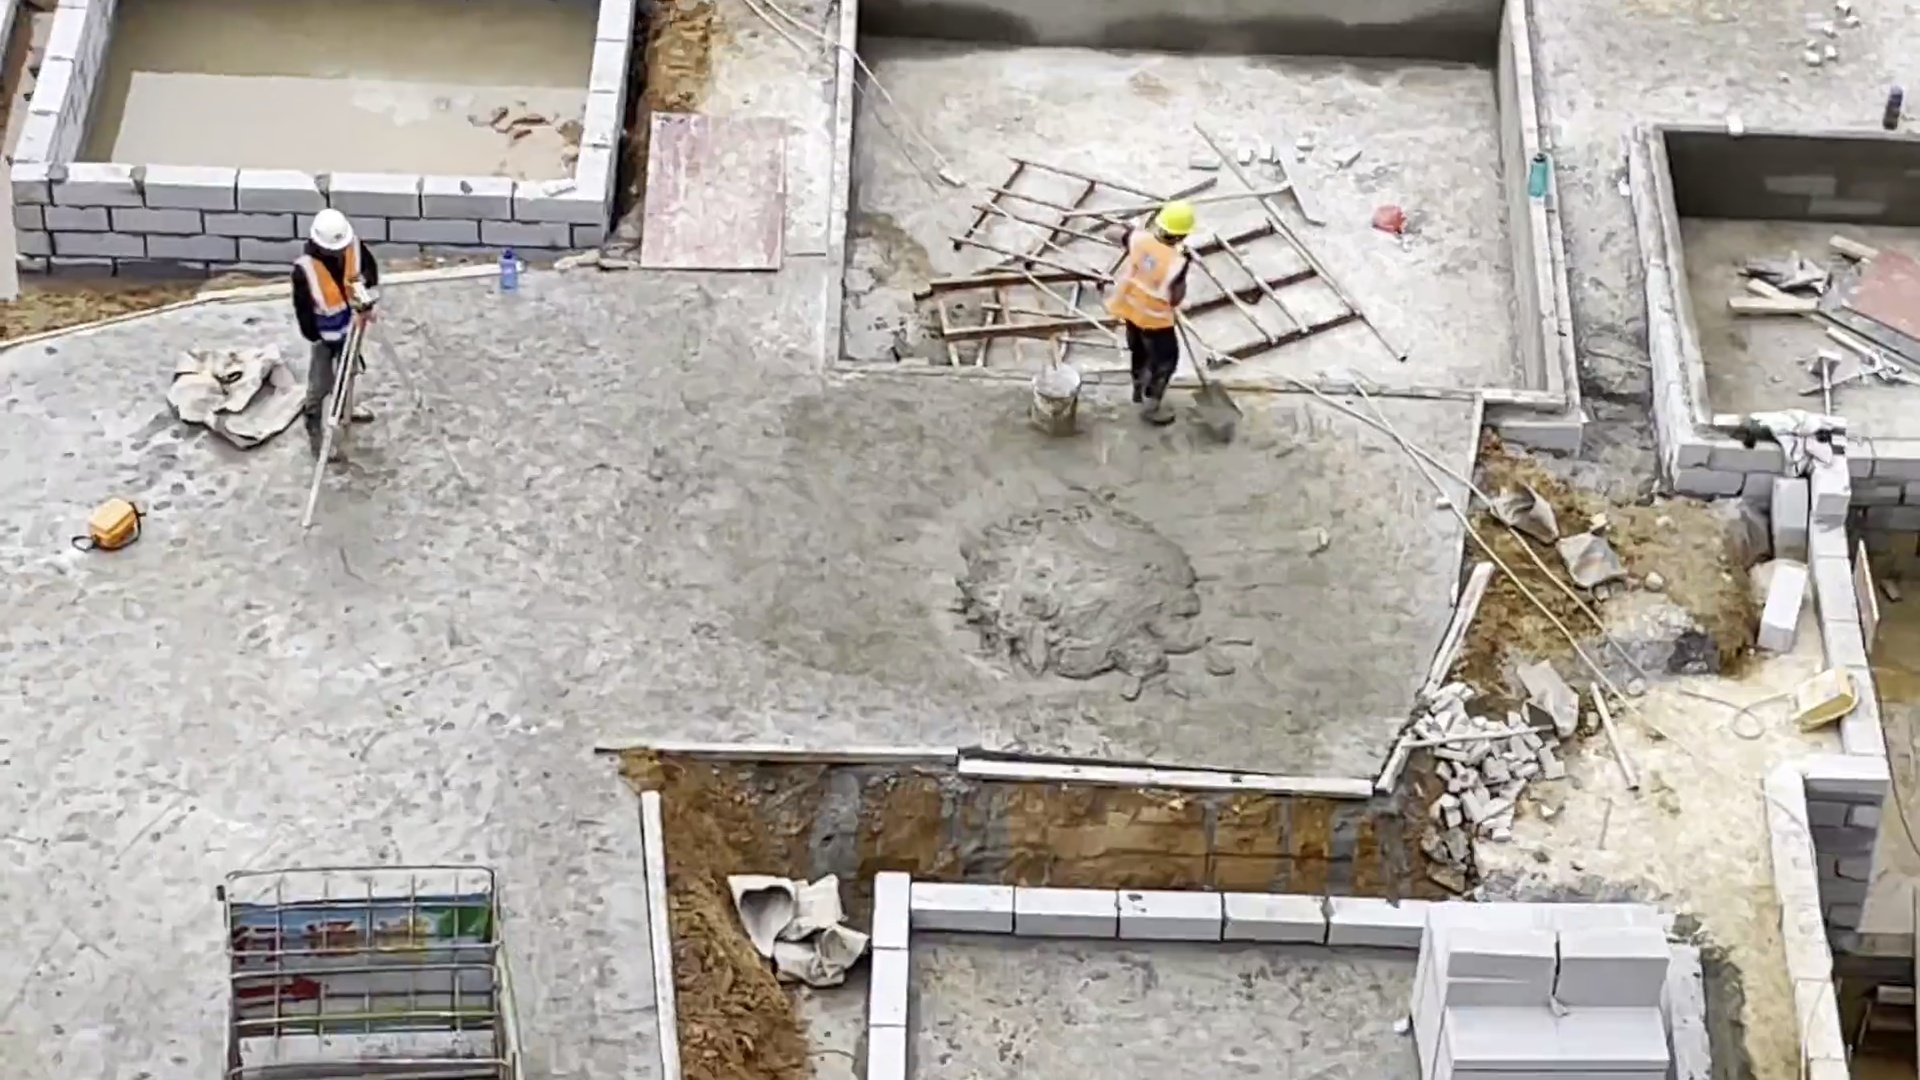helmet: (308, 206, 353, 252), (1154, 202, 1198, 240)
person: (1104, 201, 1202, 423), (302, 206, 378, 428)
vest: (1107, 225, 1194, 333), (300, 248, 375, 342)
